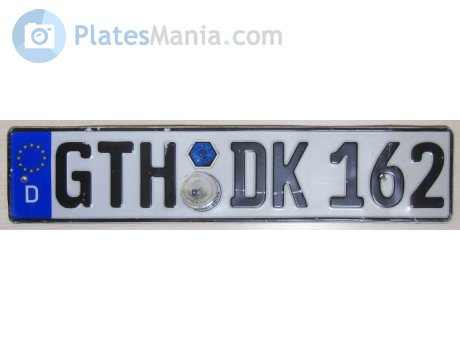License Plates: (55, 129, 443, 214)
